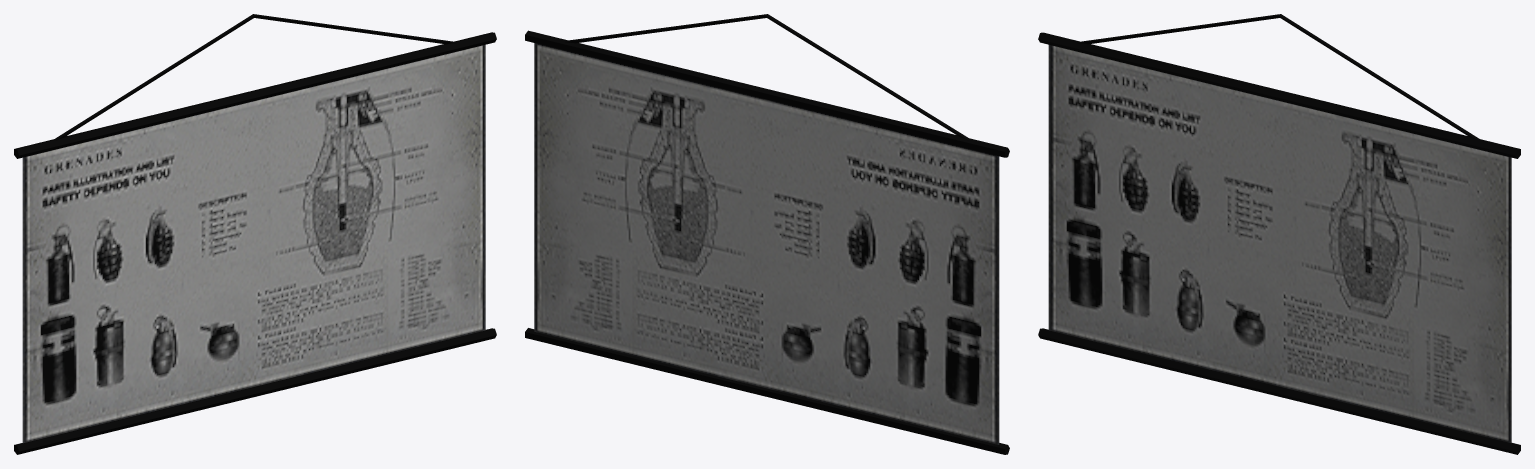
File: Training_Poster5.fbx
The picture shows the model from 3 angles, left to right: view 1: azimuth 30°, elevation 25°; view 2: azimuth 150°, elevation 25°; view 3: azimuth 330°, elevation 25°; orthographic projection.
Parts seen in each view (by area): view 1: a1plakat04, Cylinder01, Cylinder02, Loft01; view 2: a1plakat04, Cylinder01, Cylinder02, Loft01; view 3: a1plakat04, Cylinder01, Cylinder02, Loft01.
Part boxes in pixels (x1,y1,x2,y2): a1plakat04: [22, 44, 485, 443]; Cylinder01: [14, 32, 496, 158]; Cylinder02: [14, 328, 496, 454]; Loft01: [53, 14, 456, 140]; a1plakat04: [534, 43, 999, 444]; Cylinder01: [525, 30, 1009, 157]; Cylinder02: [525, 328, 1009, 454]; Loft01: [565, 14, 968, 140]; a1plakat04: [1048, 45, 1511, 443]; Cylinder01: [1038, 32, 1520, 158]; Cylinder02: [1038, 328, 1520, 454]; Loft01: [1078, 14, 1480, 140].
Size of the model in its own units: 198 by 151 by 3.62.
